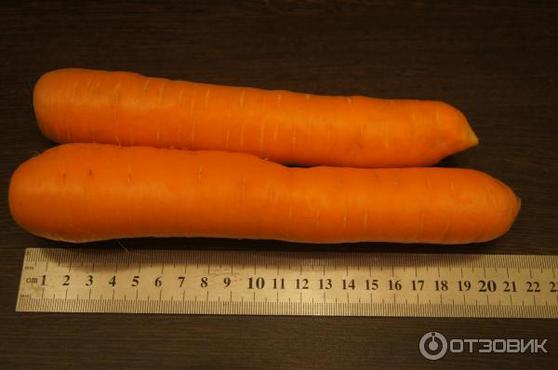carrot: (11, 146, 526, 251), (36, 66, 480, 164)
